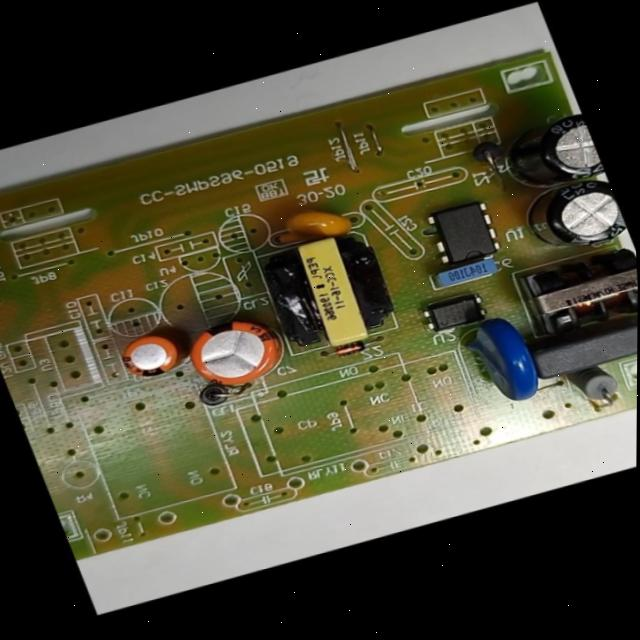Cap1: (169, 293, 303, 411)
Cap2: (101, 317, 197, 396)
Cap3: (506, 170, 633, 270)
Cap4: (478, 105, 609, 210)
MOSFET: (414, 190, 511, 280)
Mov: (447, 300, 554, 419)
Resistor: (557, 356, 636, 419)
Transformer: (243, 213, 412, 369), (505, 240, 638, 352)
